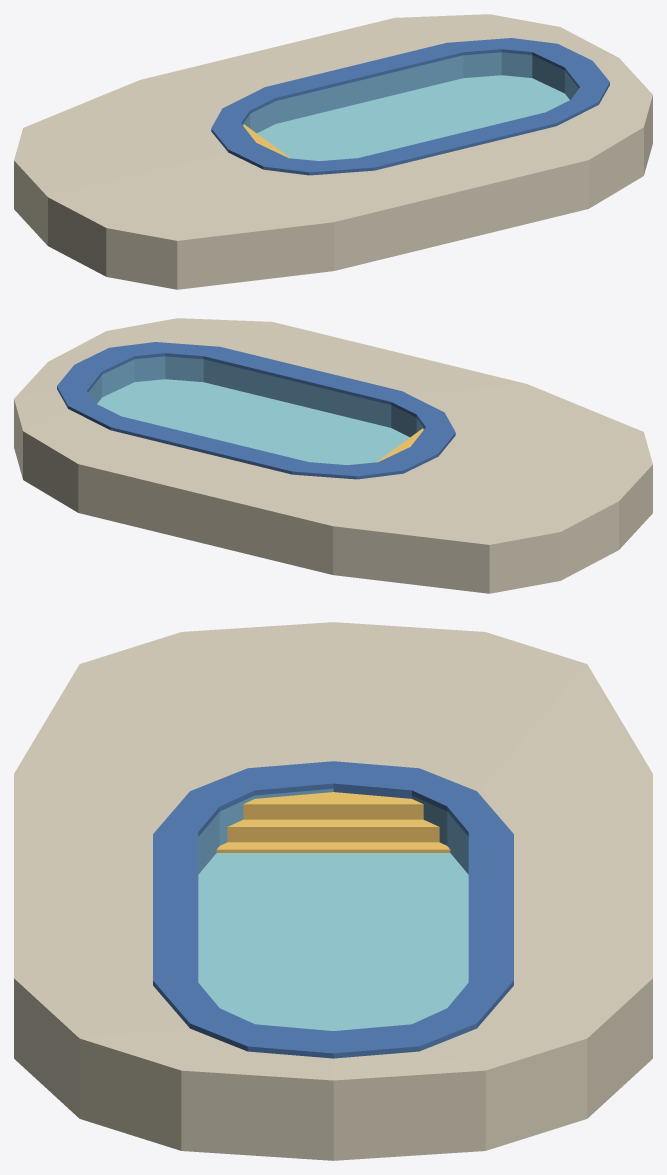
The model's file is pool_area_garden.fbx.
The picture shows the model from 3 angles, top to bottom: view 1: azimuth 30°, elevation 25°; view 2: azimuth 150°, elevation 25°; view 3: azimuth 270°, elevation 25°; orthographic projection. The views are drawn at different scales.
Parts seen in each view (by area): view 1: pool_area_garden, Plane.005, Plane.001, Plane.004; view 2: pool_area_garden, Plane.005, Plane.001, Plane.004; view 3: pool_area_garden, Plane.001, Plane.005, Plane, Plane.004.
Part boxes in pixels (x1=…): pool_area_garden: x1=14, y1=14, x2=652, y2=289; Plane.005: x1=211, y1=38, x2=609, y2=175; Plane.001: x1=257, y1=75, x2=569, y2=160; Plane.004: x1=242, y1=52, x2=578, y2=133; pool_area_garden: x1=14, y1=318, x2=652, y2=593; Plane.005: x1=57, y1=342, x2=455, y2=479; Plane.001: x1=97, y1=379, x2=409, y2=464; Plane.004: x1=88, y1=356, x2=424, y2=437; pool_area_garden: x1=14, y1=622, x2=652, y2=1160; Plane.001: x1=198, y1=853, x2=468, y2=1030; Plane.005: x1=153, y1=761, x2=513, y2=1058; Plane: x1=216, y1=792, x2=450, y2=852; Plane.004: x1=198, y1=788, x2=468, y2=874.
Size of the model in its own units: 1140 by 100 by 672.
